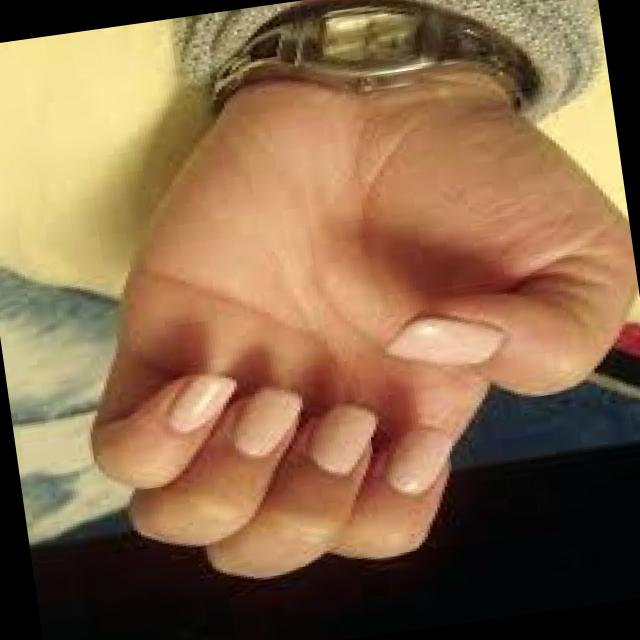Nail: (387, 318, 501, 364), (232, 388, 301, 454), (382, 428, 450, 494), (310, 405, 374, 474), (168, 376, 236, 432)
